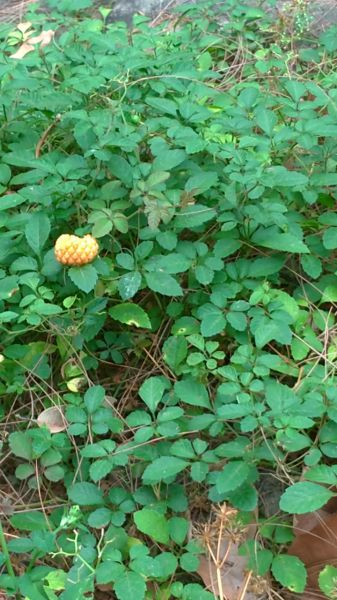eggs: (50, 227, 105, 271)
